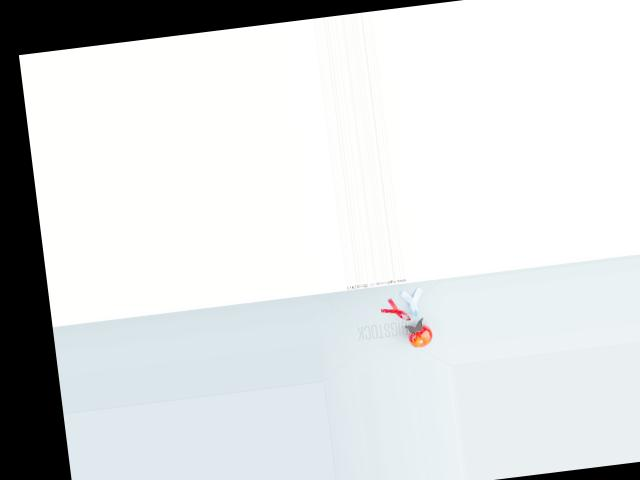tomato: (406, 322, 433, 348)
